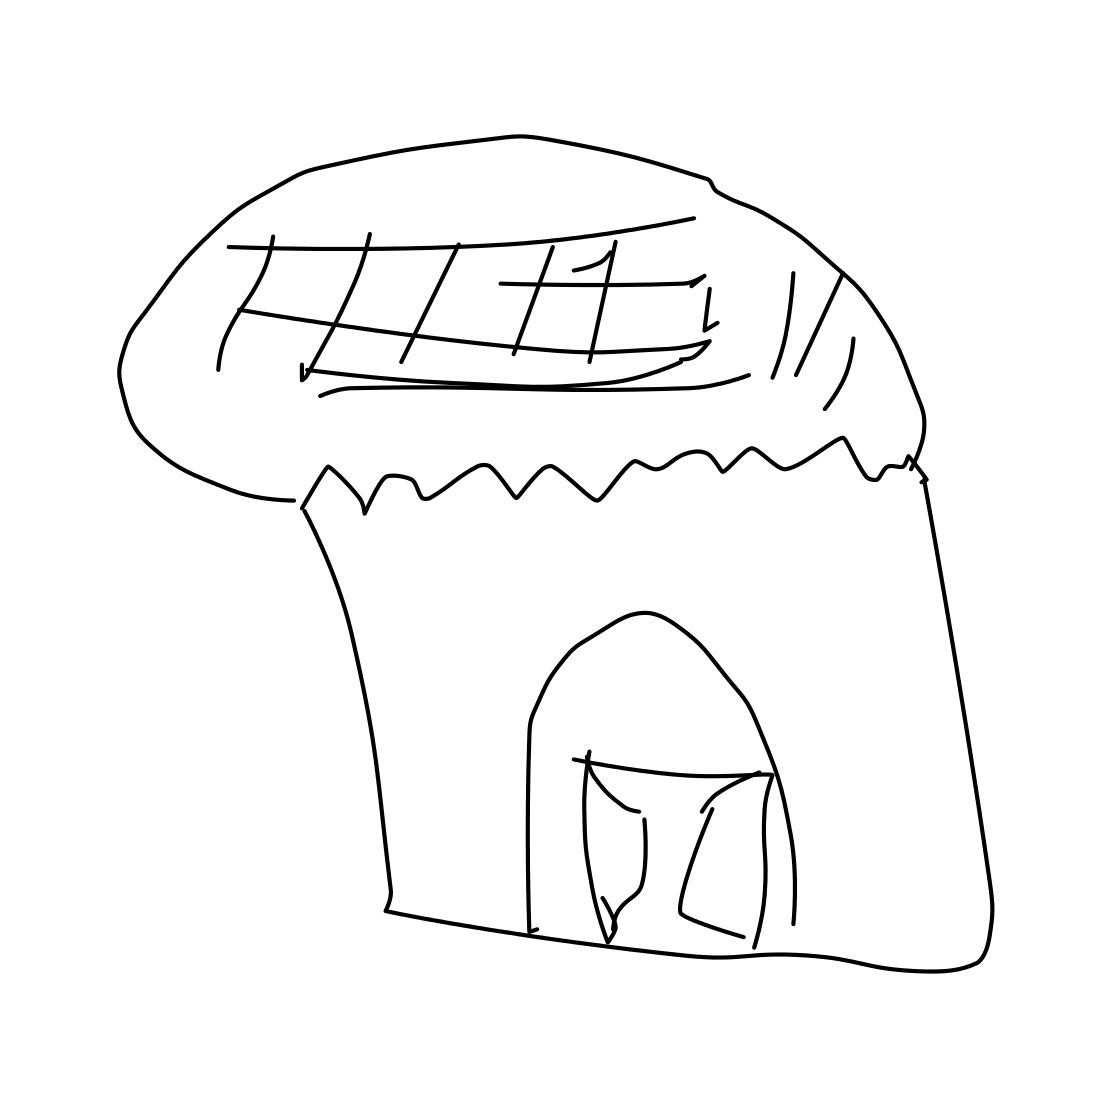House: (107, 122, 1045, 990)
